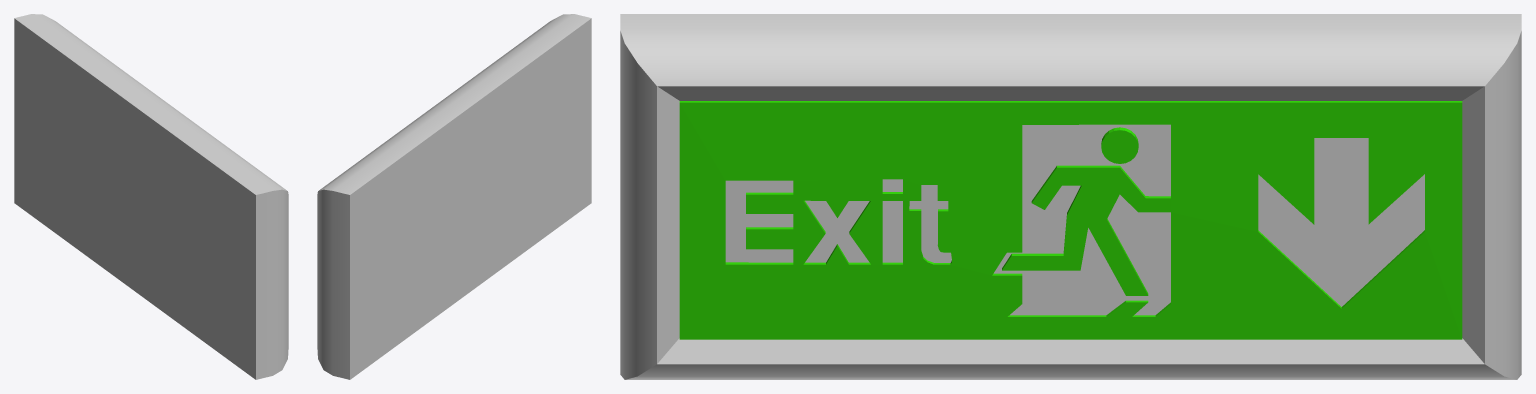
The model's file is ExitSign (1).fbx.
3 renders of one model, left to right at view 1: azimuth 30°, elevation 25°; view 2: azimuth 150°, elevation 25°; view 3: azimuth 270°, elevation 25°, orthographic. The views are drawn at different scales.
Visible parts, largest first — view 1: ExitSignMainpart; view 2: ExitSignMainpart; view 3: ExitSignMainpart.
Boxes of the visible parts, x1=… form: ExitSignMainpart: x1=14, y1=14, x2=288, y2=379; ExitSignMainpart: x1=317, y1=14, x2=591, y2=379; ExitSignMainpart: x1=620, y1=14, x2=1521, y2=379.
Bounding box in the file's own units: 10.2 × 42.17 × 99.93.
